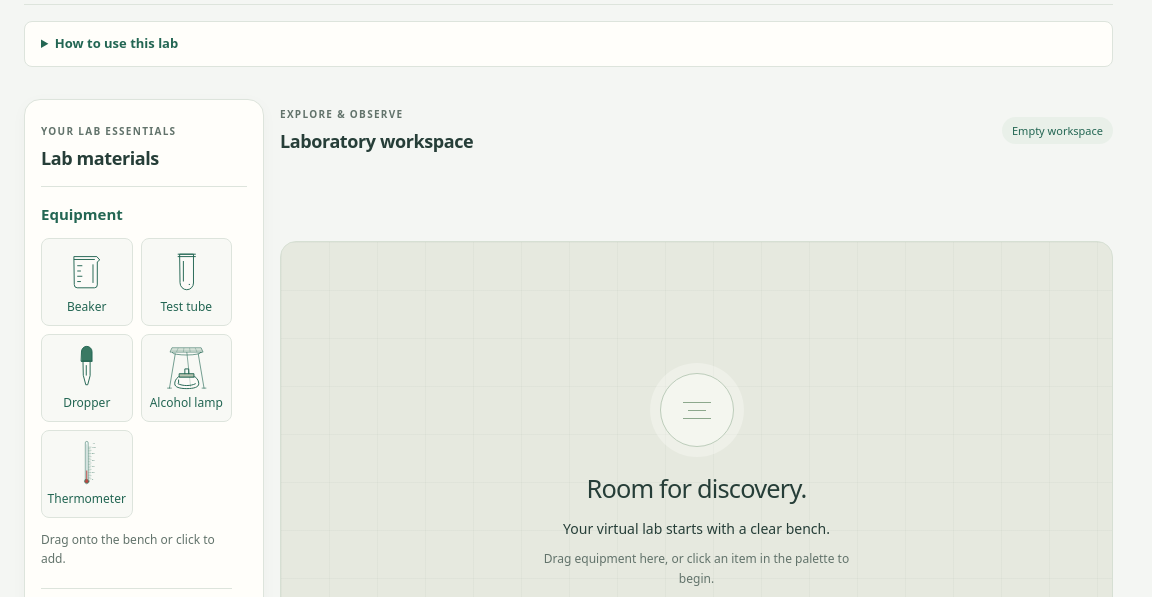
Test case: Experiment Sample/Result tabs › opens Result for no reaction and for a fresh repeat evaluation of the same outcome
Click the button with aria-label "Add Beaker".
click(87, 282)  # box [41,238,132,326]
(page scrolled)
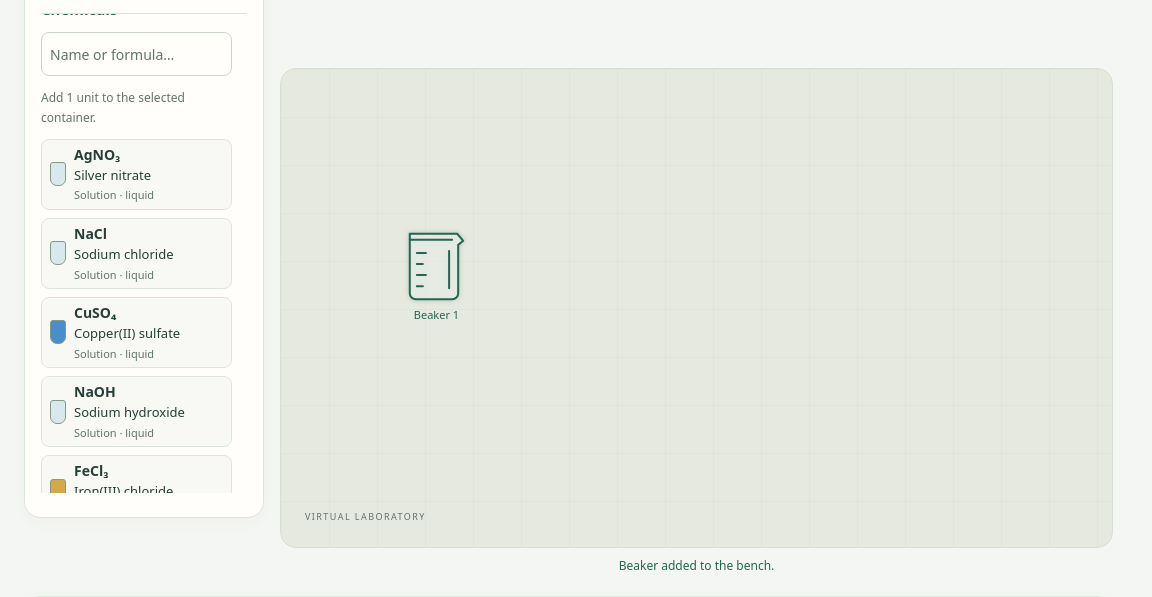
Click the button with aria-label "Add Sodium chloride".
click(136, 253)  # box [41,218,232,289]
(page scrolled)
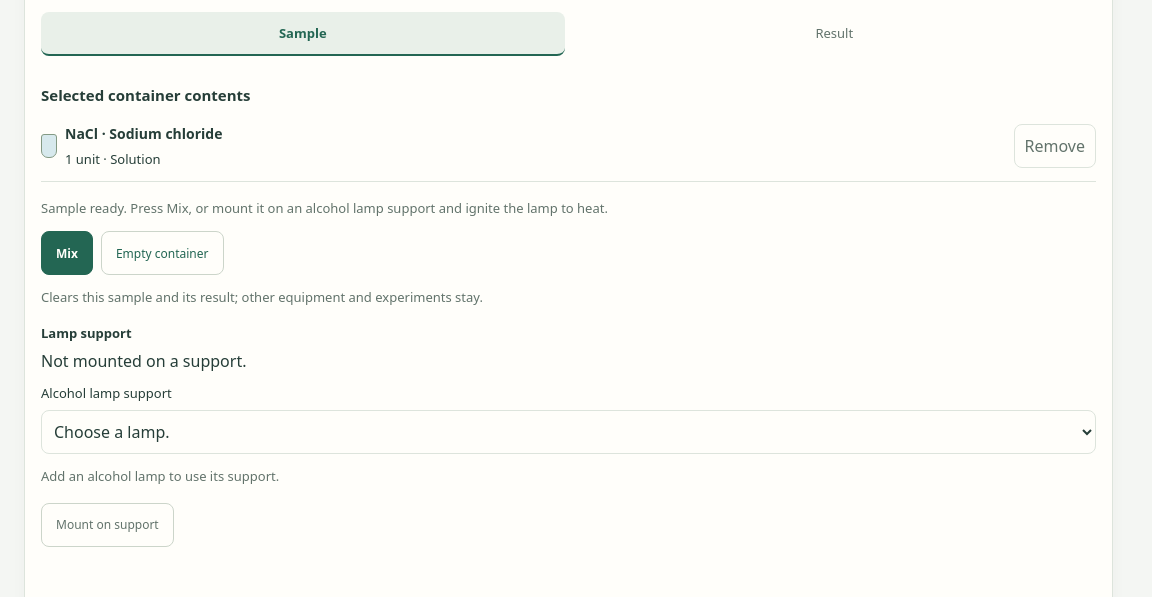
Click the button "Mix".
click(67, 253)  # box [41,231,93,275]
(page scrolled)
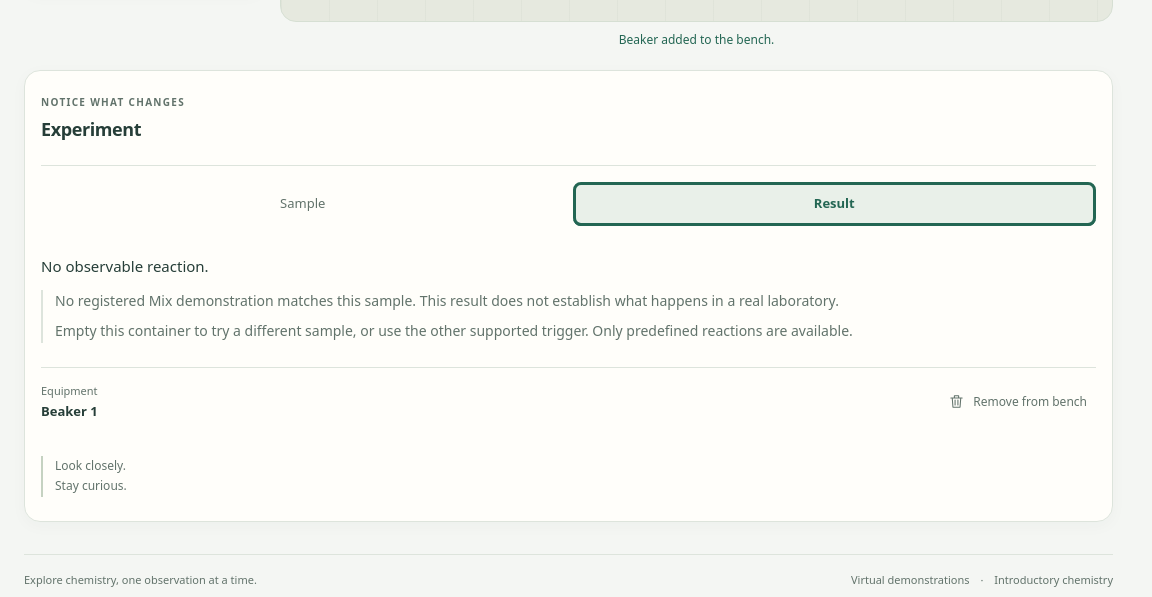
Expected: the panel named "Result" shows "No observable reaction.", [41,256,209,276]
Click the tab "Sample".
click(303, 204)  # box [41,182,564,226]
(page scrolled)
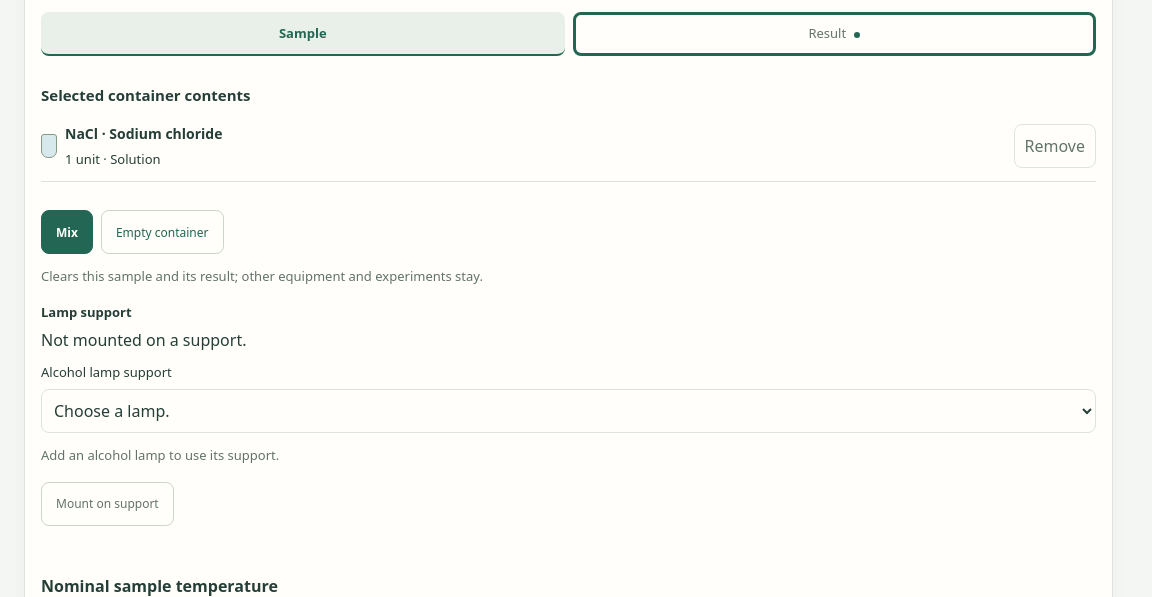
Click the button "Mix".
click(67, 232)  # box [41,210,93,254]
(page scrolled)
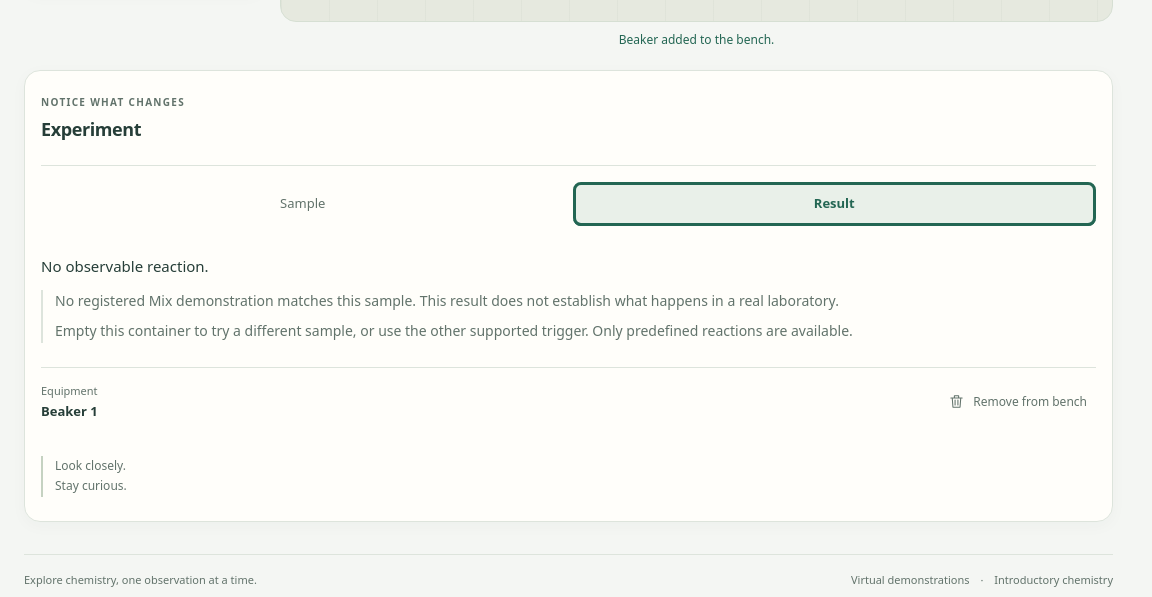
Expected: the panel named "Result" shows "No observable reaction.", [41,256,209,276]
